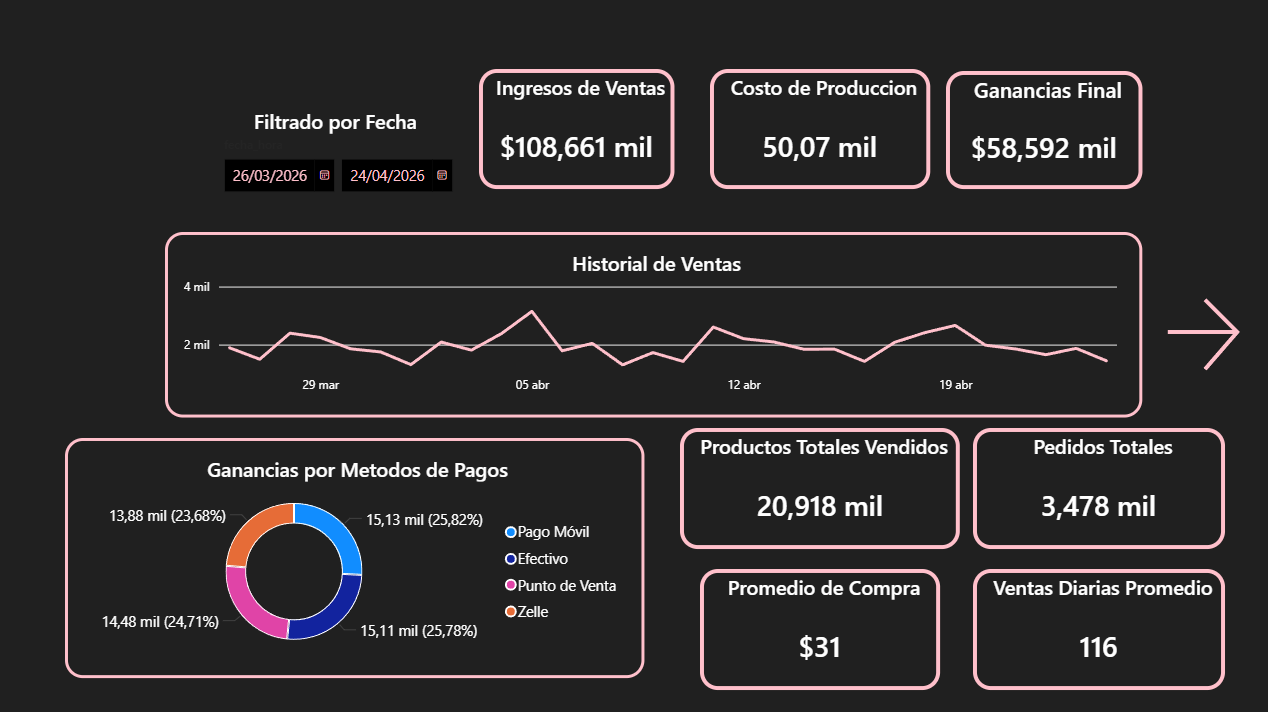

What the dashboard file says about the page in this screenshot:
{"tool":"powerbi","page":{"name":"Página 1","canvas":[1280,720],"ordinal":0},"visuals":[{"type":"cardVisual","title":"Ingresos de Ventas","fields":{"Data":["Medidas.Ingresos_totales"]},"box":[482.8,69.5,196.5,120.9],"z":0},{"type":"cardVisual","title":"Promedio de Compra","fields":{"Data":["Medidas.ticket Promedio"]},"box":[705.5,573.5,241.9,122],"z":1000},{"type":"donutChart","title":"Ganancias por Metodos de Pagos","fields":{"Category":["public ventas.metodo_pago"],"Y":["Medidas.Ganancias"]},"box":[65.5,441.4,583.6,241.9],"z":2000},{"type":"cardVisual","title":"Pedidos Totales","fields":{"Data":["Medidas.Ventas Totales"]},"box":[980.7,431.4,254,122],"z":3000},{"type":"lineChart","title":"Historial de Ventas","fields":{"Category":["public ventas.fecha_hora.Variación.Jerarquía de fechas.Año","public ventas.fecha_hora.Variación.Jerarquía de fechas.Mes","public ventas.fecha_hora.Variación.Jerarquía de fechas.Día"],"Y":["Medidas.Ganancias"]},"box":[166.1,233.4,984.8,186.7],"z":4000},{"type":"cardVisual","title":"Ganancias Final","fields":{"Data":["Medidas.Ganancias"]},"box":[953.4,71.6,197.5,118.9],"z":5000},{"type":"actionButton","box":[1151,270.1,122,134],"z":6000},{"type":"cardVisual","title":"Costo de Produccion","fields":{"Data":["Medidas.Costo Total de Produccion"]},"box":[715.5,69.1,221.7,121.2],"z":7000},{"type":"slicer","title":"Filtrado por Fecha","fields":{"Values":["public ventas.fecha_hora"]},"box":[217.7,107.8,240.9,102.8],"z":8000},{"type":"cardVisual","title":"Ventas Diarias Promedio","fields":{"Data":["Medidas.Venta Diaria Promedio"]},"box":[980.7,573.5,254,122],"z":10000},{"type":"cardVisual","title":"Productos Totales Vendidos","fields":{"Data":["Sum(public detalle_ventas.cantidad)"]},"box":[685.4,431.4,282.2,122],"z":11000}]}

Visuals, with their boxes in screenshot pixels (x1, y1, x2, y2), scaled from the page's 1280x720 canvas onto the 1268x712 screenshot:
"Ingresos de Ventas" cardVisual: box=[478, 69, 673, 188]
"Promedio de Compra" cardVisual: box=[699, 567, 939, 688]
"Ganancias por Metodos de Pagos" donutChart: box=[65, 436, 643, 676]
"Pedidos Totales" cardVisual: box=[972, 427, 1223, 547]
"Historial de Ventas" lineChart: box=[165, 231, 1140, 415]
"Ganancias Final" cardVisual: box=[944, 71, 1140, 188]
actionButton: box=[1140, 267, 1261, 400]
"Costo de Produccion" cardVisual: box=[709, 68, 928, 188]
"Filtrado por Fecha" slicer: box=[216, 107, 454, 208]
"Ventas Diarias Promedio" cardVisual: box=[972, 567, 1223, 688]
"Productos Totales Vendidos" cardVisual: box=[679, 427, 959, 547]
